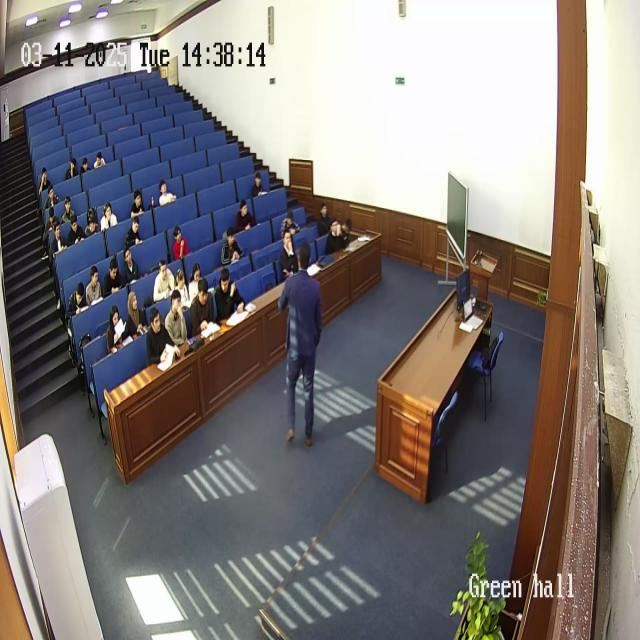person: (279, 245, 324, 446), (144, 307, 177, 367), (214, 268, 244, 326), (190, 278, 218, 338), (165, 289, 190, 348), (125, 290, 148, 340), (106, 307, 130, 353), (278, 229, 299, 281), (153, 259, 177, 301), (221, 225, 243, 267), (120, 245, 142, 287), (324, 217, 348, 255), (103, 258, 124, 298), (188, 261, 206, 305), (173, 267, 191, 309), (48, 220, 66, 262), (68, 283, 88, 320), (86, 264, 104, 305), (236, 198, 256, 232), (280, 209, 300, 243), (172, 225, 190, 261), (126, 216, 144, 250), (100, 201, 118, 231), (68, 216, 86, 246), (45, 185, 60, 221), (83, 207, 100, 238), (317, 203, 332, 238), (158, 178, 176, 207), (131, 188, 147, 220), (61, 196, 76, 226), (38, 167, 52, 198), (251, 171, 266, 197), (66, 158, 78, 180), (94, 150, 106, 169), (80, 157, 92, 175)
